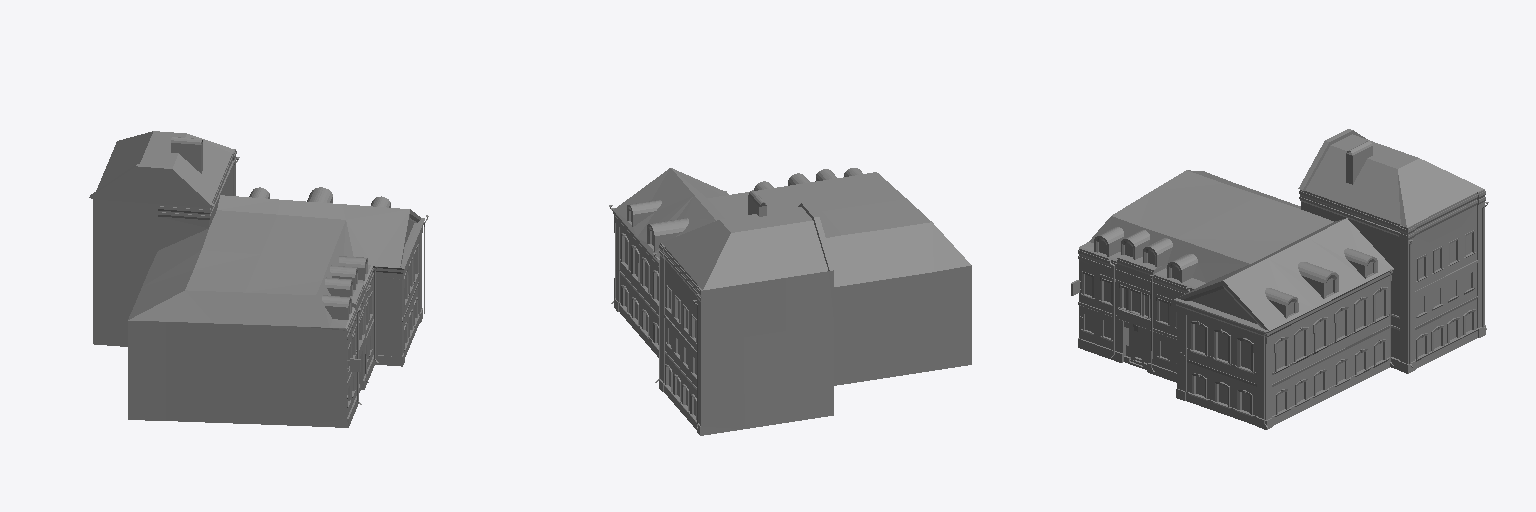
The model's file is City.obj.
The picture shows the model from 3 angles: view 1: azimuth 30°, elevation 25°; view 2: azimuth 150°, elevation 25°; view 3: azimuth 270°, elevation 25°; orthographic projection.
Parts seen in each view (by area): view 1: domik; view 2: domik; view 3: domik.
Part boxes in pixels (x1,y1,x2,y2): domik: (89,131,428,427); domik: (609,168,971,435); domik: (1071,129,1488,429).
Size of the model in its own units: 17.24 by 9.52 by 18.81.